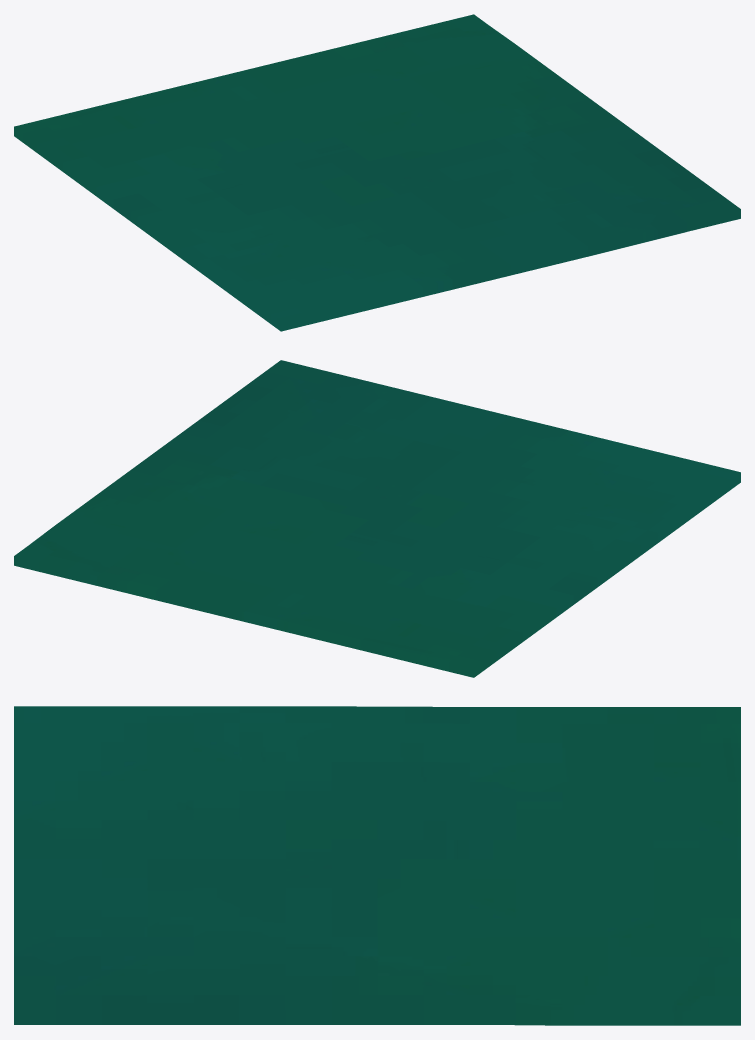
Rendered from z17-20944-50644-h0-yup-uvflip-v3-world.glb.
The picture shows the model from 3 angles, top to bottom: view 1: azimuth 30°, elevation 25°; view 2: azimuth 150°, elevation 25°; view 3: azimuth 270°, elevation 25°; orthographic projection. The views are drawn at different scales.
Size of the model in its own units: 241 by 5.12 by 243.
Materials: 1 (1 with a texture image).
